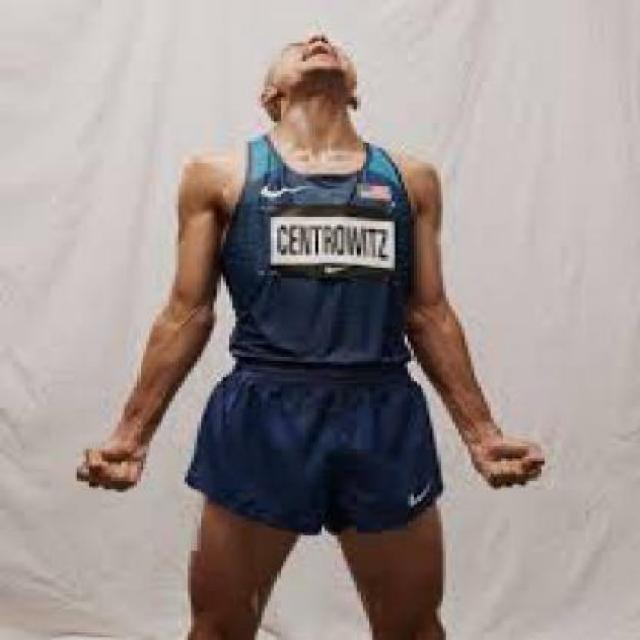Nike: (401, 474, 434, 508)
